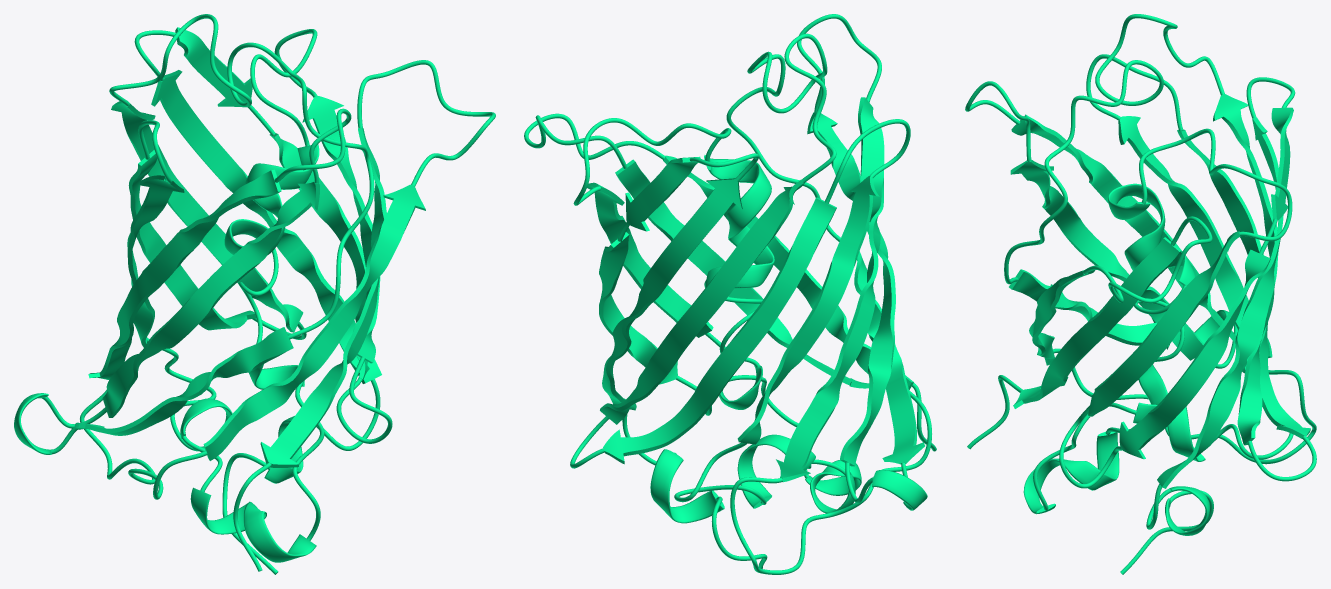
Rendered from 1GFL_GFP_protein_v1.glb.
The picture shows the model from 3 angles, left to right: view 1: azimuth 30°, elevation 25°; view 2: azimuth 150°, elevation 25°; view 3: azimuth 270°, elevation 25°; orthographic projection. The views are drawn at different scales.
Visible parts, largest first — view 1: ribbons; view 2: ribbons; view 3: ribbons.
Part boxes in pixels (left/top/right/bottom): ribbons: left=14, top=14, right=495, bottom=574; ribbons: left=524, top=14, right=936, bottom=574; ribbons: left=965, top=14, right=1316, bottom=574.
Size of the model in its own units: 43.57 by 53.5 by 31.79.
